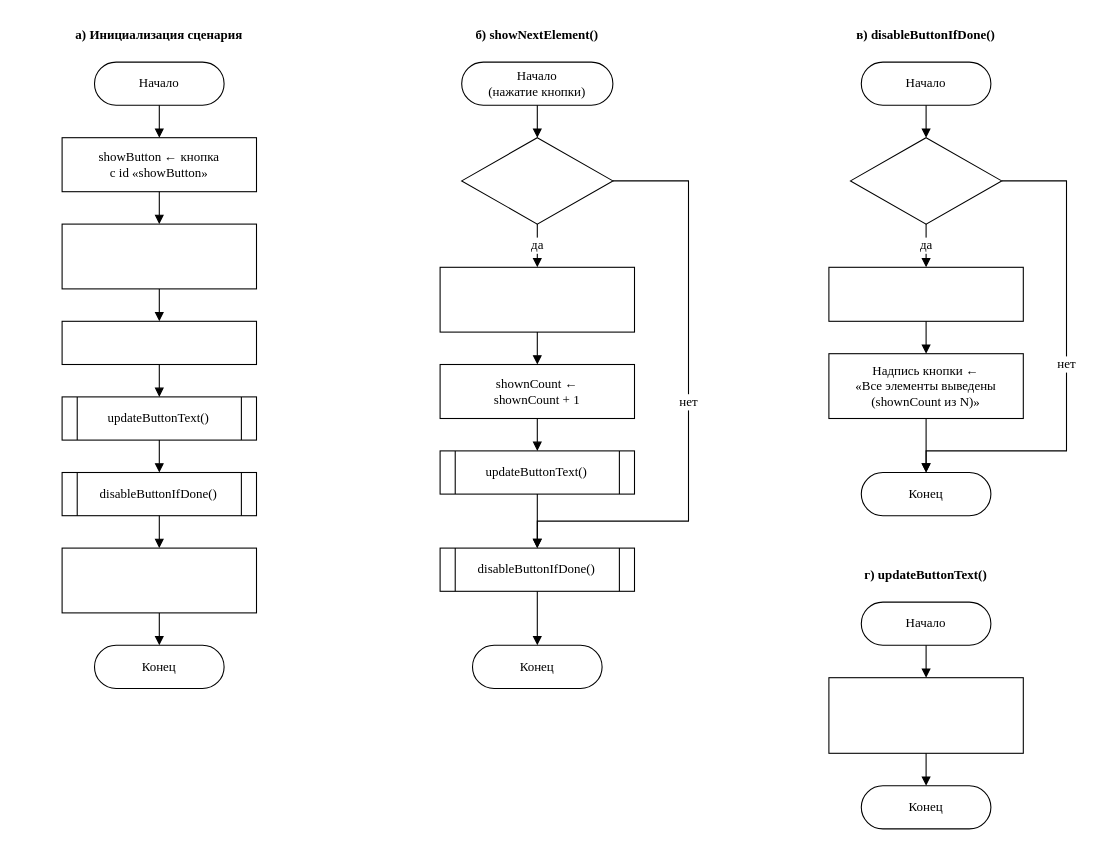
Image size: 1095x848. Some labels were removed from this diagram. The shapes that lost their labels are listed below. From the top down, each one's centre as x and y in pixels, then its label:
(537,180): shownCount < N ?
(925,180): shownCount = N ?
(158,256): hiddenElements ← все элементы с атрибутом hidden; N ← их количество
(536,299): Снять атрибут hidden с hiddenElements [shownCount]
(925,293): Установить кнопке атрибут disabled="true"
(158,342): shownCount ← 0
(158,580): Назначить кнопке обработчик click: showNextElement()
(925,715): Надпись кнопки ← «Показать следующий элемент (shownCount из N)»
